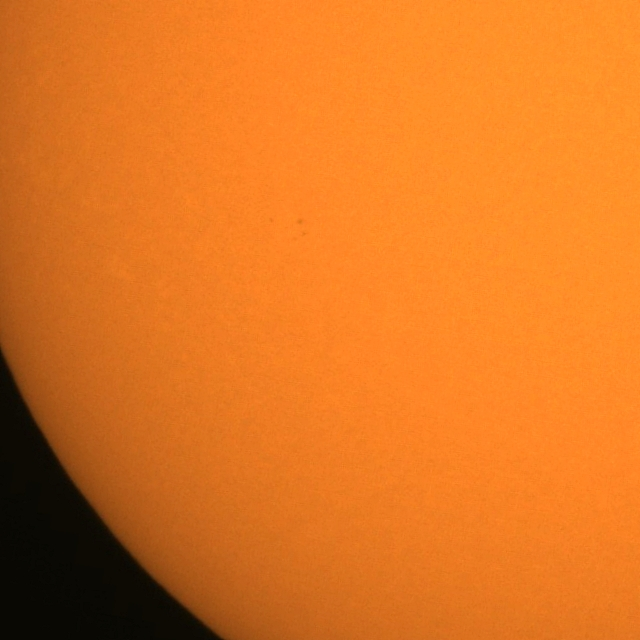sunspot: (295, 217, 308, 238)
